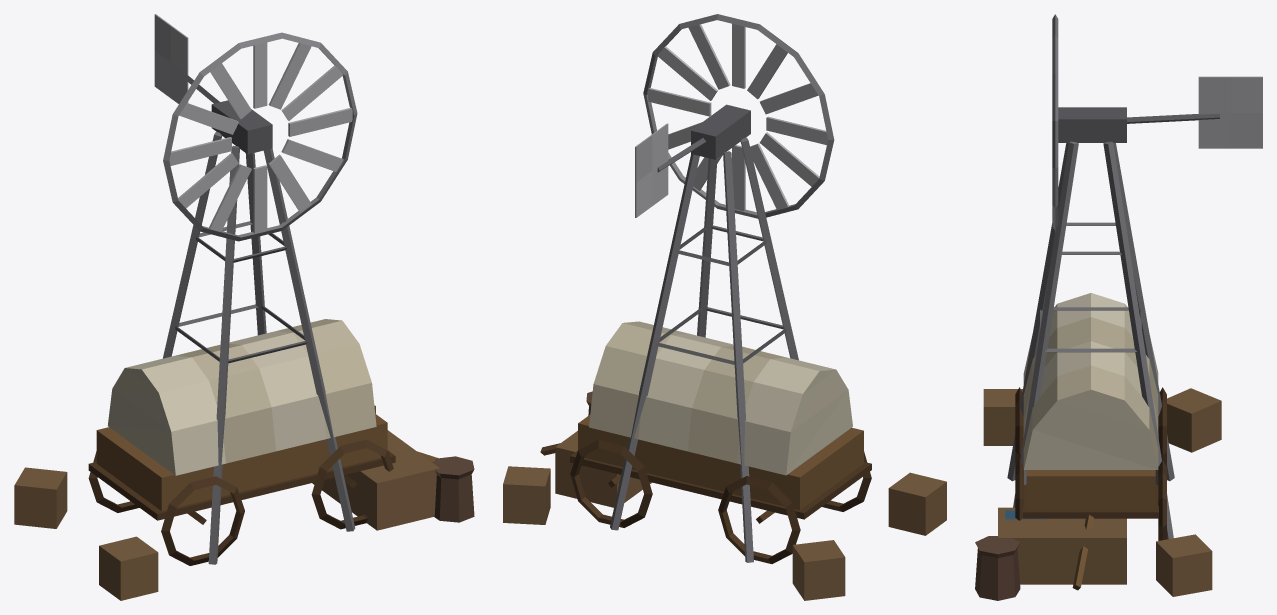
File: badlands.glb
The picture shows the model from 3 angles, left to right: view 1: azimuth 30°, elevation 25°; view 2: azimuth 150°, elevation 25°; view 3: azimuth 270°, elevation 25°; orthographic projection.
Visible parts, largest first — view 1: badlands_covered_wagon_a, badlands_windpump_a; view 2: badlands_covered_wagon_a, badlands_windpump_a; view 3: badlands_covered_wagon_a, badlands_windpump_a.
Part boxes in pixels (left/top/right/bottom): badlands_covered_wagon_a: left=14, top=319, right=474, bottom=600; badlands_windpump_a: left=130, top=14, right=439, bottom=564; badlands_covered_wagon_a: left=503, top=321, right=946, bottom=600; badlands_windpump_a: left=555, top=14, right=834, bottom=562; badlands_covered_wagon_a: left=975, top=293, right=1221, bottom=600; badlands_windpump_a: left=998, top=14, right=1262, bottom=584.
Bounding box in the file's own units: 2.92 × 3.76 × 2.01.
